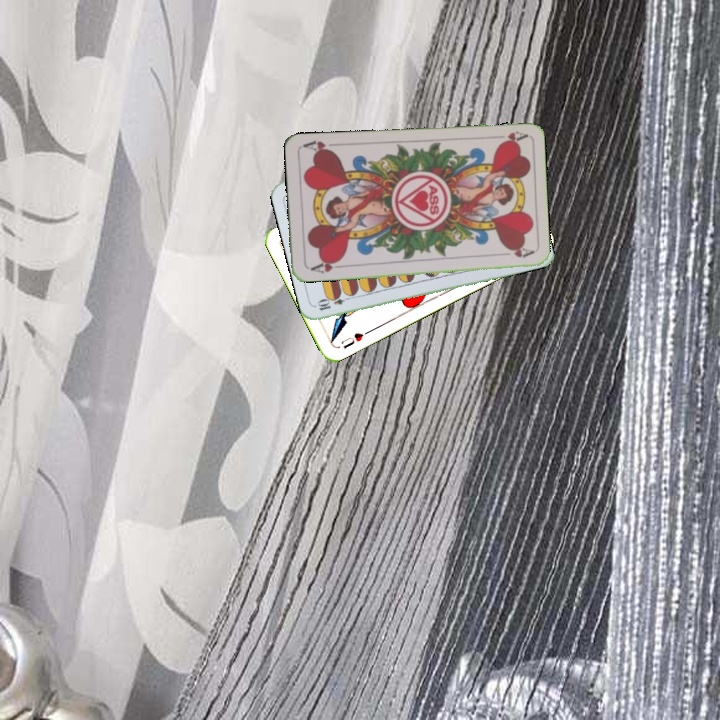E10: (314, 291, 354, 313)
HA: (306, 256, 346, 276), (494, 127, 528, 147)
HU: (337, 328, 366, 351)
